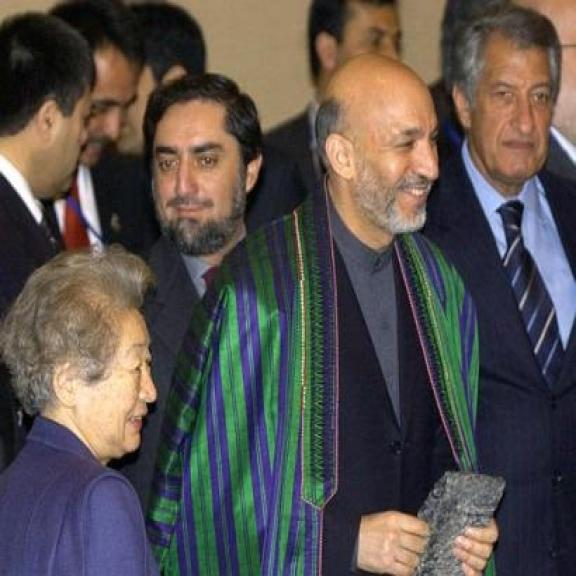face: (322, 58, 439, 235), (48, 304, 159, 460), (155, 108, 262, 248), (452, 46, 554, 185), (38, 55, 88, 198), (314, 0, 405, 75), (83, 44, 136, 171)
